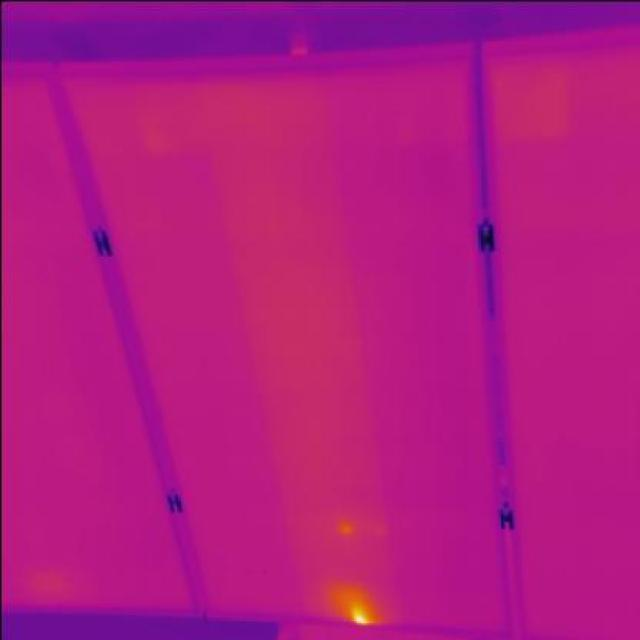hotspot: (338, 596, 372, 626)
